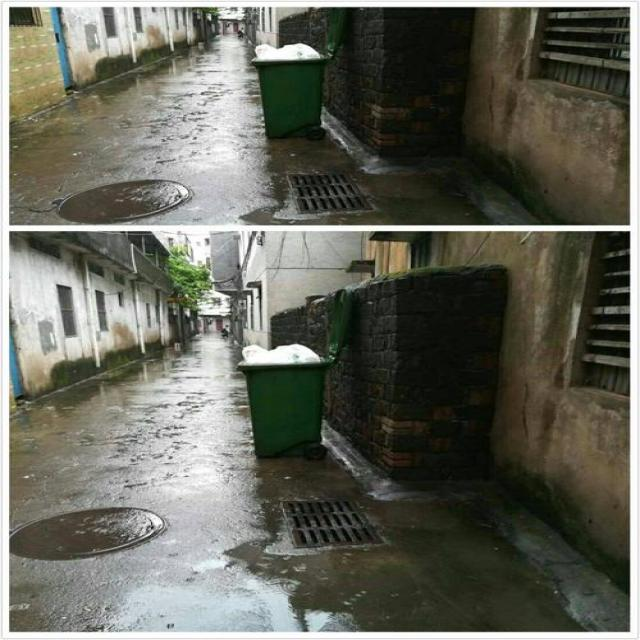overflow: (236, 343, 328, 456), (250, 42, 326, 136)
